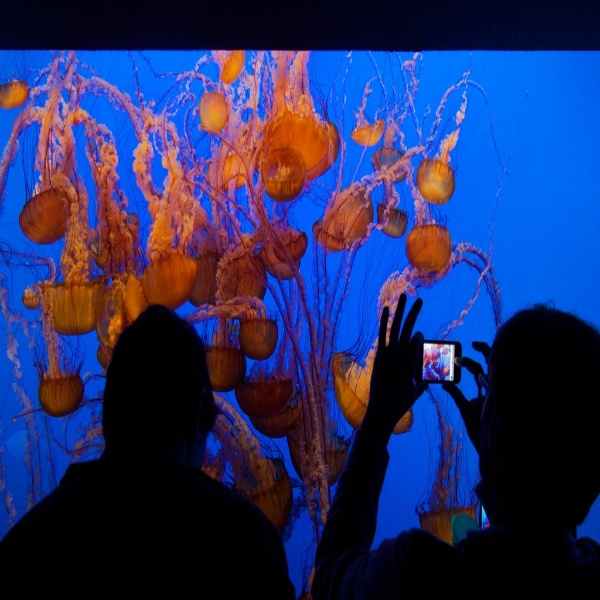Jellyfish: (0, 48, 505, 599), (419, 141, 463, 201)
